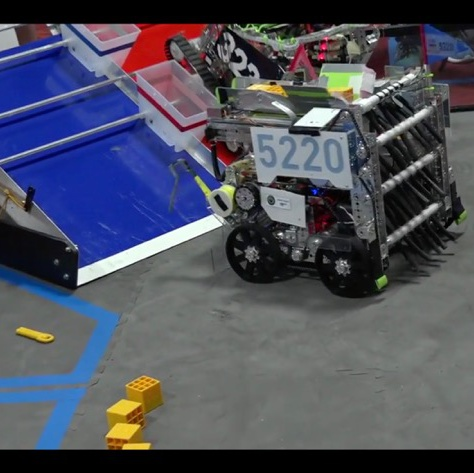robot: (201, 67, 464, 303), (165, 23, 372, 72)
